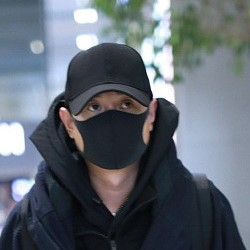mask: (66, 102, 151, 171)
